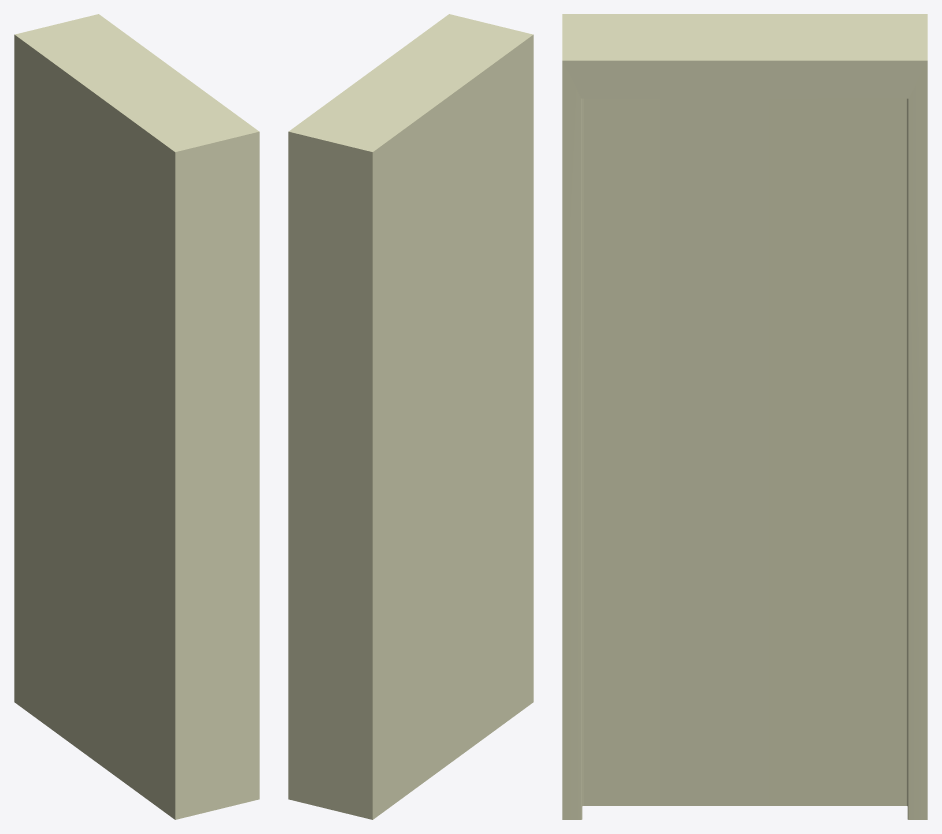
Rendered from wall_empty_small.fbx.
3 renders of one model, left to right at view 1: azimuth 30°, elevation 25°; view 2: azimuth 150°, elevation 25°; view 3: azimuth 270°, elevation 25°, orthographic. The views are drawn at different scales.
Visible parts, largest first — view 1: wall_empty_small; view 2: wall_empty_small; view 3: wall_empty_small.
Boxes of the visible parts, left/top/right/bottom form: wall_empty_small: left=14, top=14, right=259, bottom=819; wall_empty_small: left=288, top=14, right=533, bottom=819; wall_empty_small: left=562, top=14, right=927, bottom=819.
Bounding box in the file's own units: 121 × 917 × 400.
